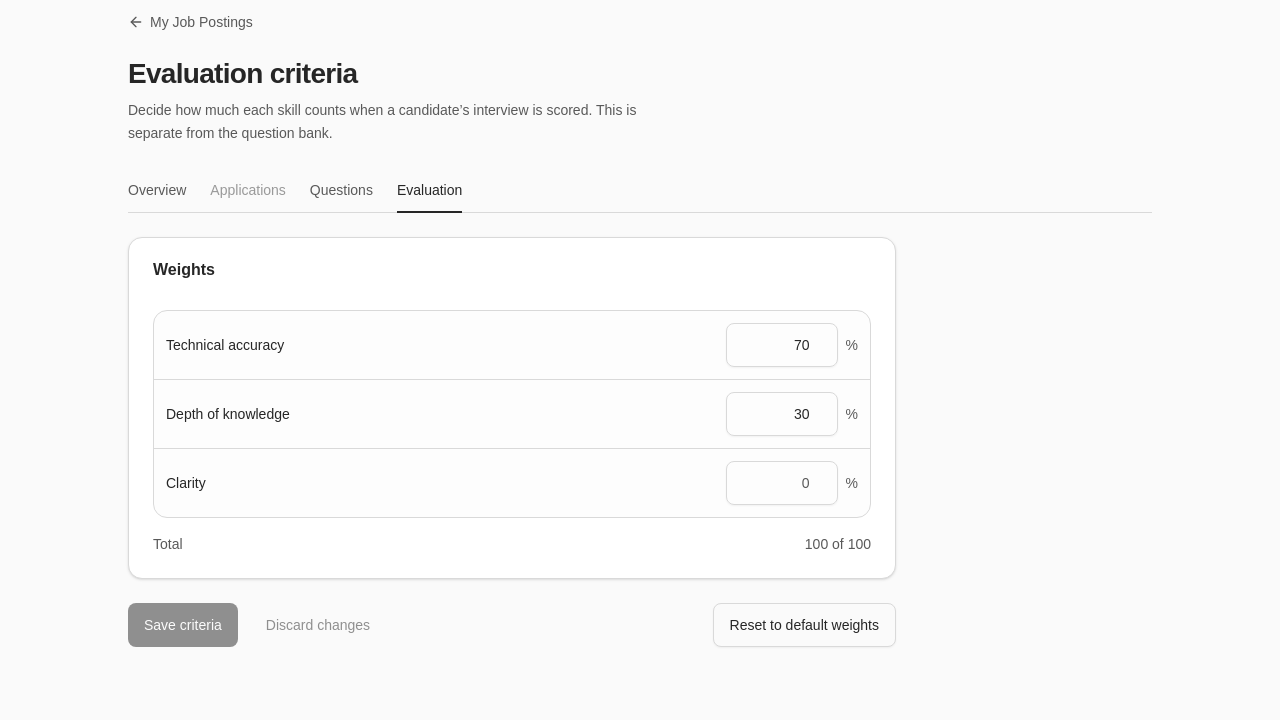
EvaluationCriteria › keeps Save off until the weights add up, then sends only metrics above 0%
Expected: the number field labelled "Clarity" is shown, [726,460,838,504]
Expected: the button "Save criteria" is disabled, [128,602,238,646]
Replace the text in the number field labelled "Technical accuracy" with "50": (782, 344) [726,322,838,366]
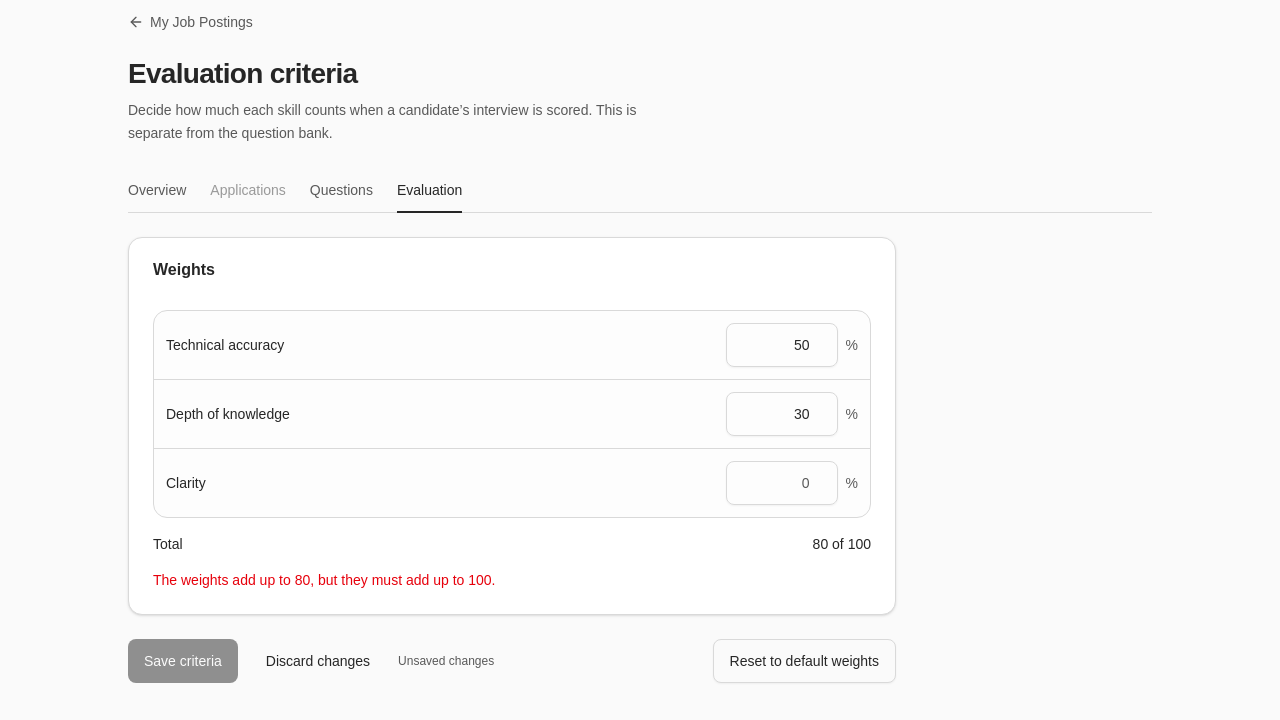
Expected: the button "Save criteria" is disabled, [128,638,238,682]
Result: the text "The weights add up to 80, but they must add up to 100." is shown at [153,572,496,588]
Result: the text "80 of 100" is shown at [813,534,871,554]
In the number field labelled "Clarity": (782, 482) [726,460,838,504], type "20"
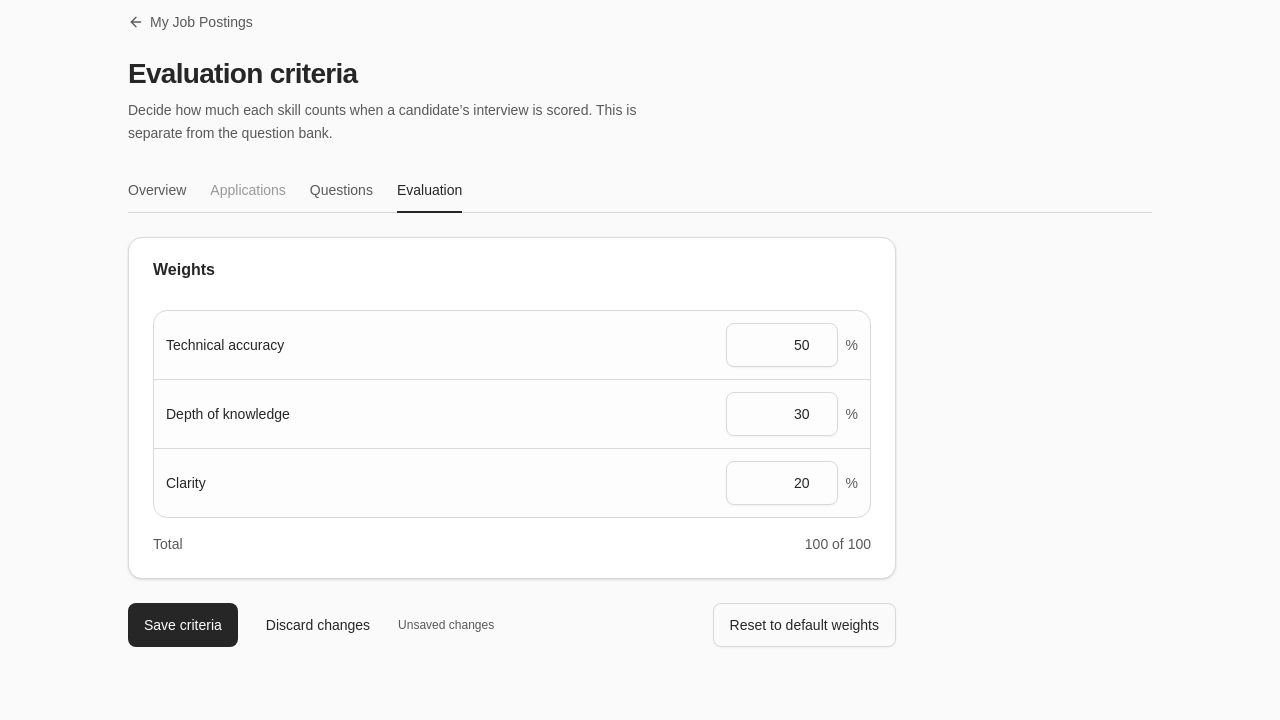
Result: the button "Save criteria" is enabled
Click the button "Save criteria": click(183, 624) [128,602,238,646]
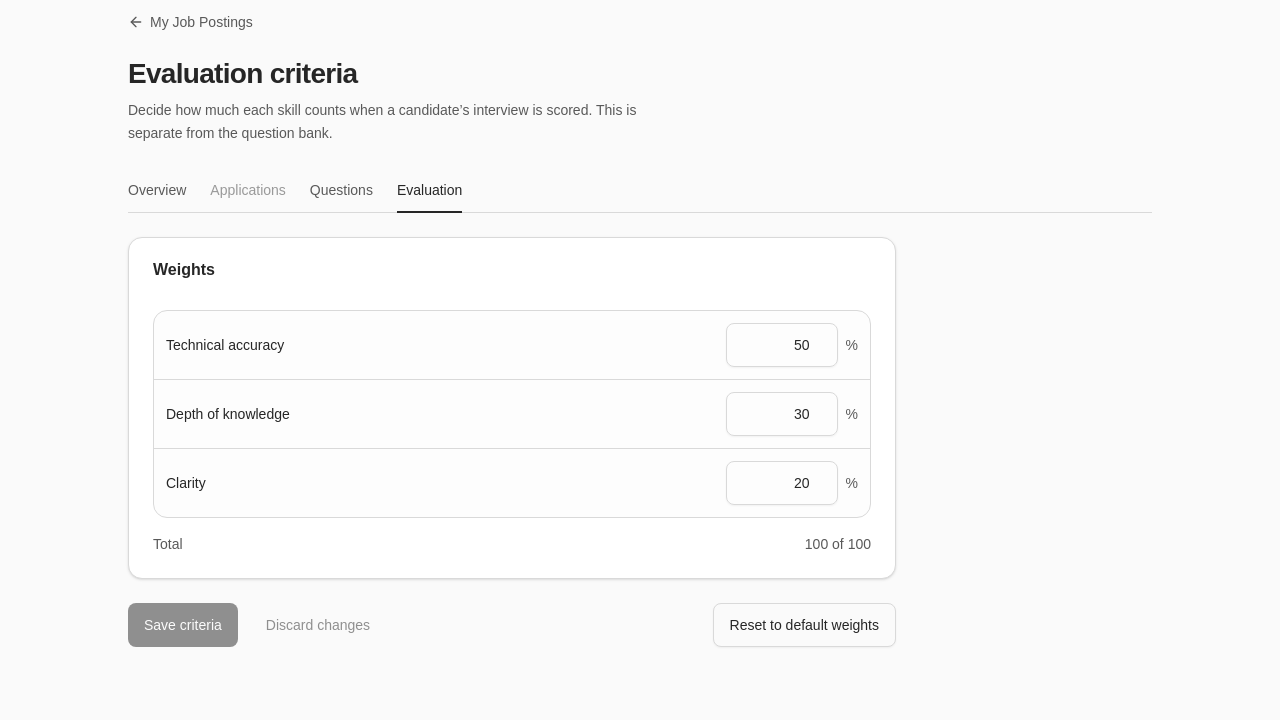
Result: the button "Save criteria" is disabled at [128,602,238,646]
